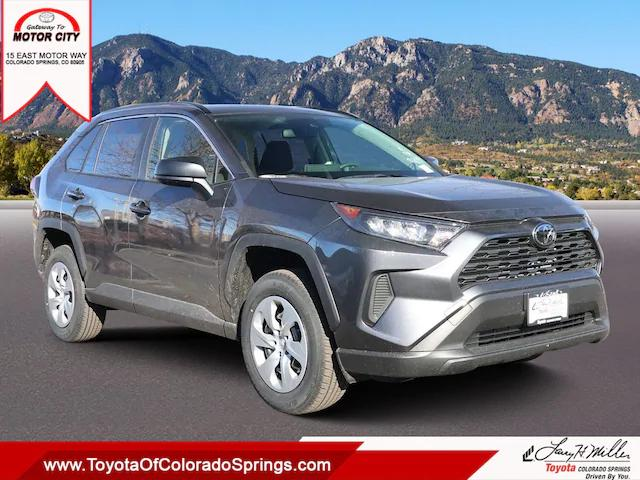Toyota RAV-4: (31, 102, 610, 416)
